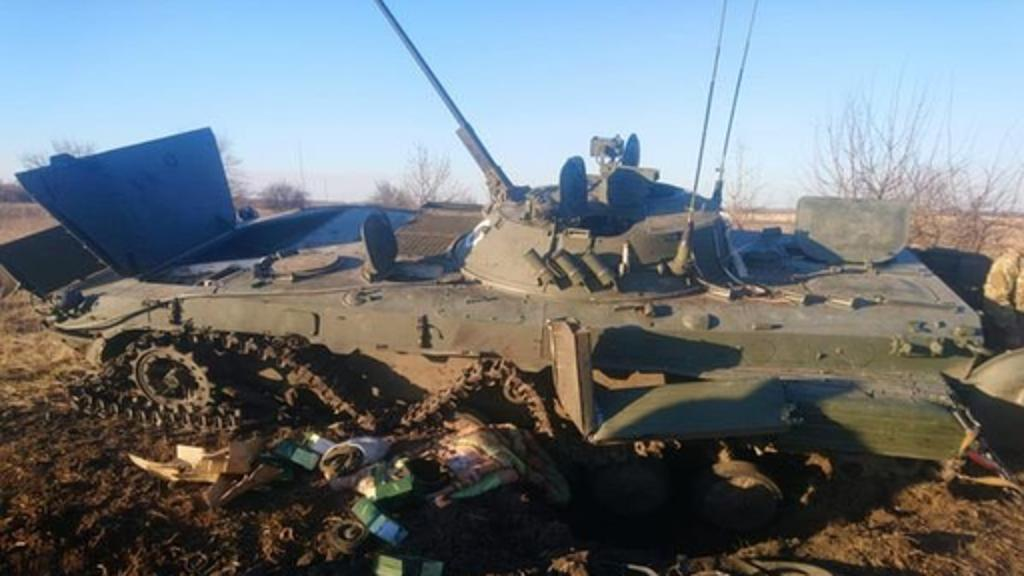APC-IFV: (2, 4, 988, 502)
